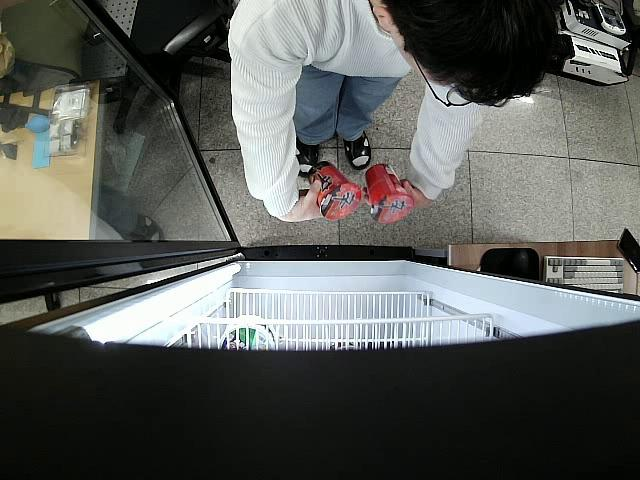00_hand: (362, 180, 433, 211), (283, 179, 326, 224)
02_shinRamen_S: (307, 161, 359, 221), (365, 163, 415, 223)
